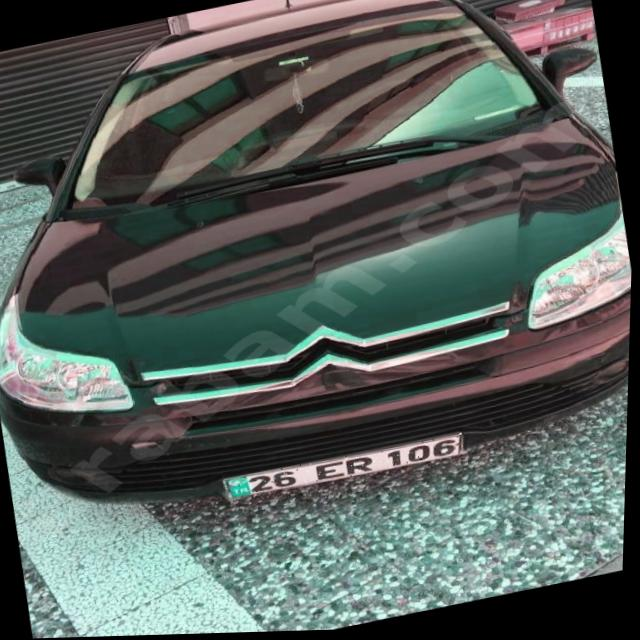license_plate: (226, 433, 467, 503)
